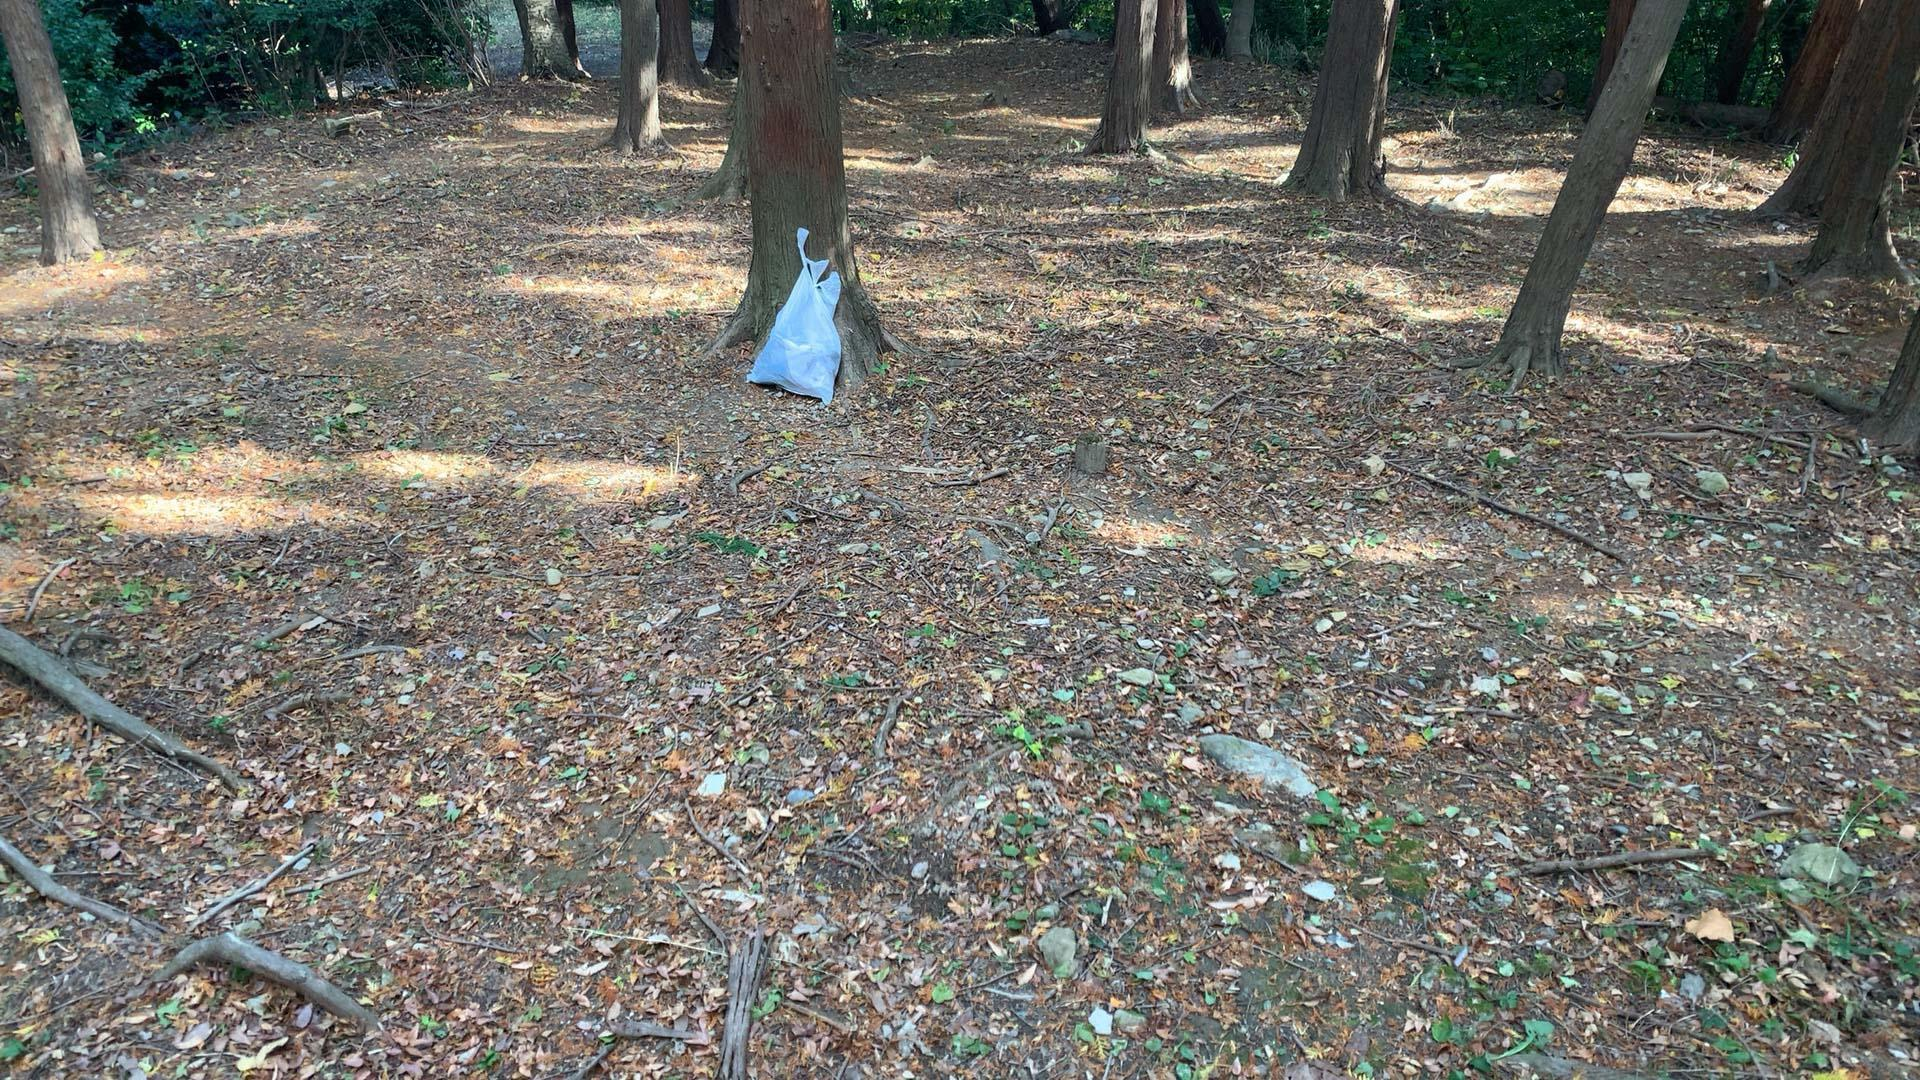white_bag: (742, 219, 862, 411)
